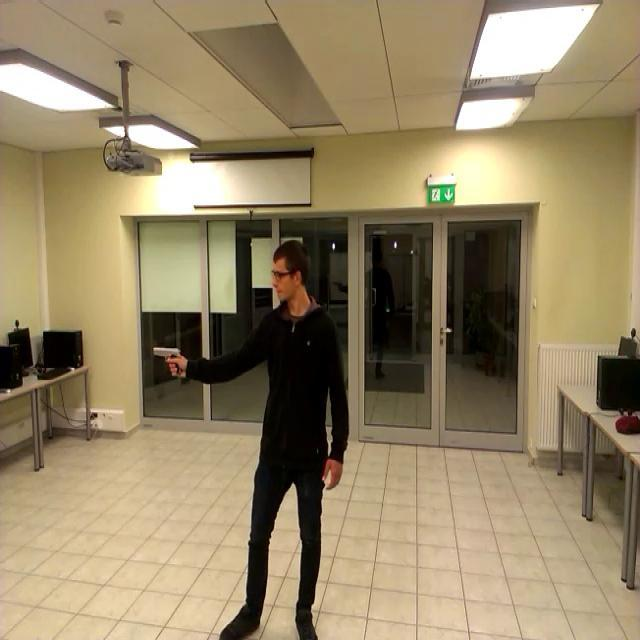Gun: (136, 330, 192, 389)
